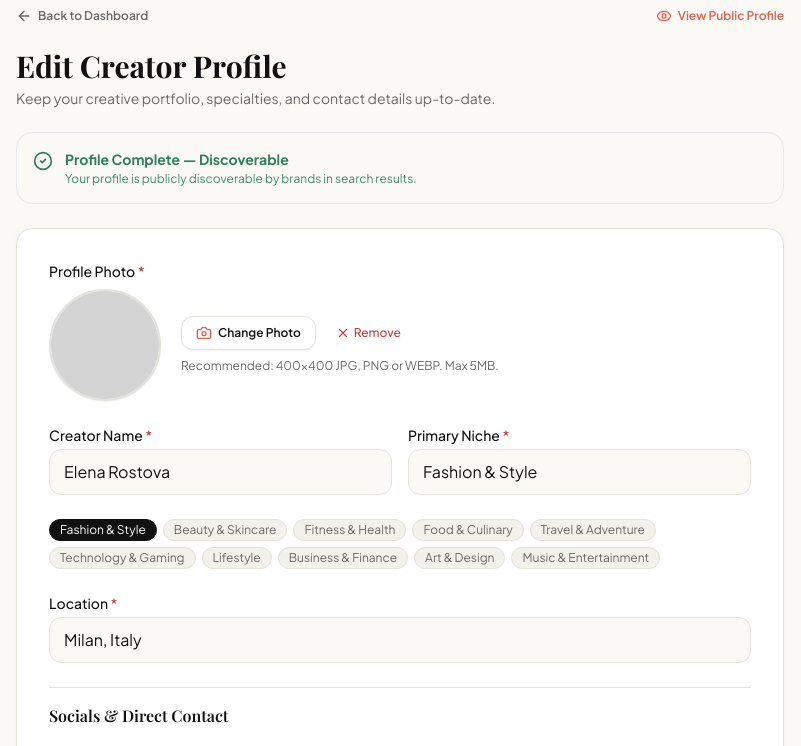
Test case: Phase 4B Frontend Profiles & Public Views Test Suite › 4. Creator Profile Page & Discoverability Invariants › blocks saving when profile photo is cleared and displays Profile photo is required.
Expected: the heading "Edit Creator Profile" is shown, [16,46,287,86]
Note: Click Remove photo
What coordinates should you click on to do the following:
click the button with aria-label "Remove photo"
I would click on:
 (368, 333)
Its box is [324,317,413,349].
(page scrolled)
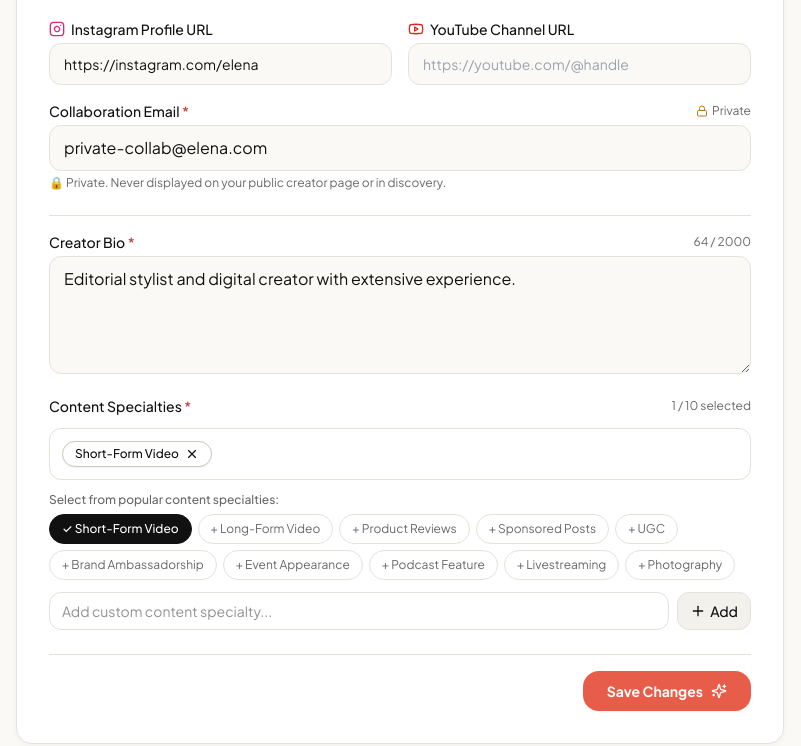
Note: Click Save Changes
What coordinates should you click on to do the following:
click the button "Save Changes"
I would click on:
 (667, 691)
Its box is [583,671,751,711].
(page scrolled)
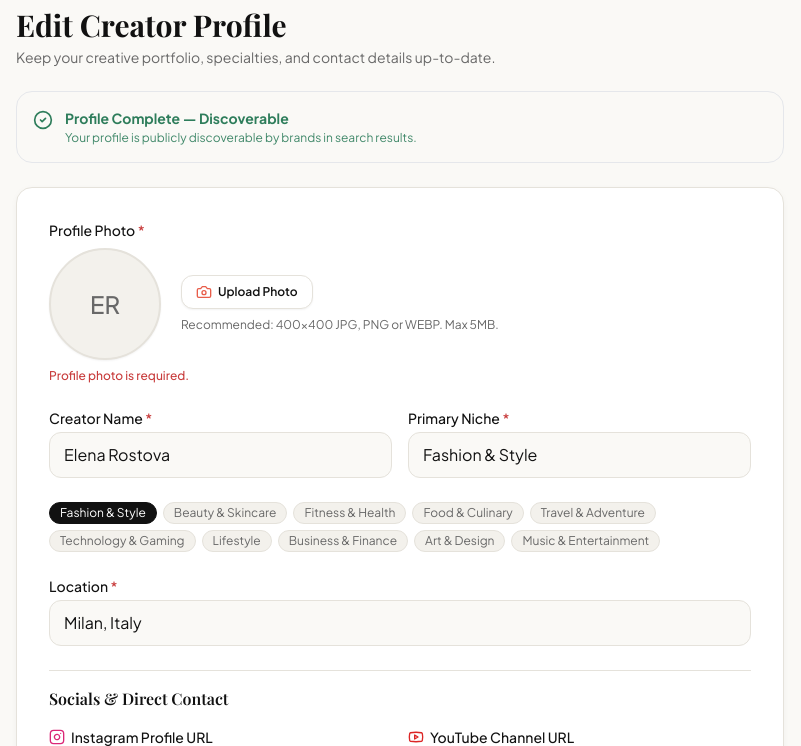
Now the text "Profile photo is required." is shown, box [49,368,189,383]
